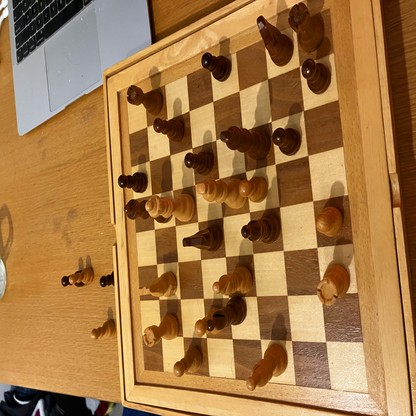bishop_black: (206, 297, 246, 332), (241, 214, 281, 243)
bishop_white: (246, 346, 287, 390), (213, 266, 253, 294)
king_black: (219, 127, 271, 159)
king_white: (195, 175, 246, 209)
knight_black: (256, 15, 294, 65), (183, 224, 223, 251)
knight_white: (138, 272, 177, 297)
pawn_black: (301, 59, 332, 94), (201, 52, 232, 82), (272, 127, 301, 155), (153, 118, 185, 141), (185, 150, 215, 174), (118, 172, 147, 192)
pawn_white: (174, 347, 204, 376), (316, 206, 343, 237), (238, 177, 269, 201), (90, 320, 116, 339), (68, 266, 93, 285)
queen_white: (145, 192, 195, 222)
rock_black: (287, 2, 323, 54), (127, 85, 164, 113)
rock_white: (317, 264, 350, 305), (144, 316, 179, 347)
